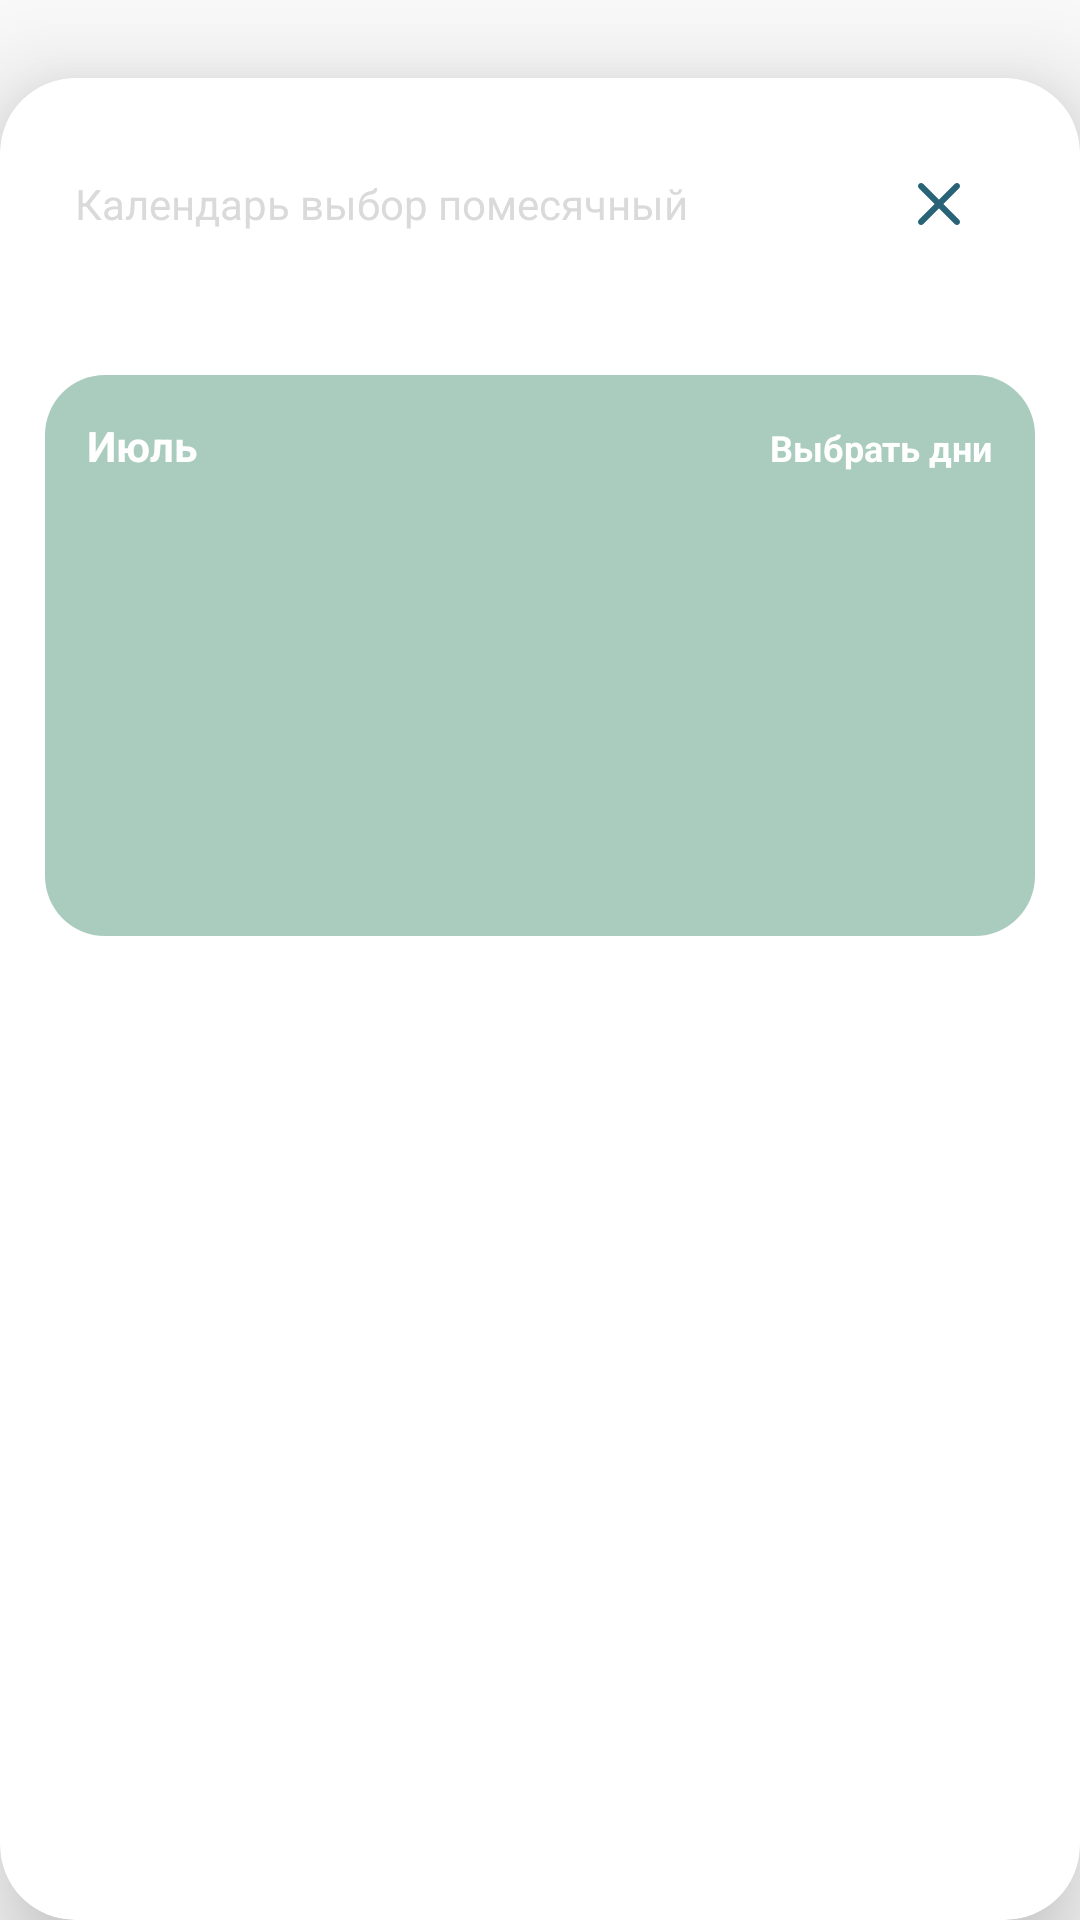

Named icons in this screenshot (1080w x 1920h) and their bounding boxes, (x1, y1, x2, y2):
close: (918, 183, 960, 225)
